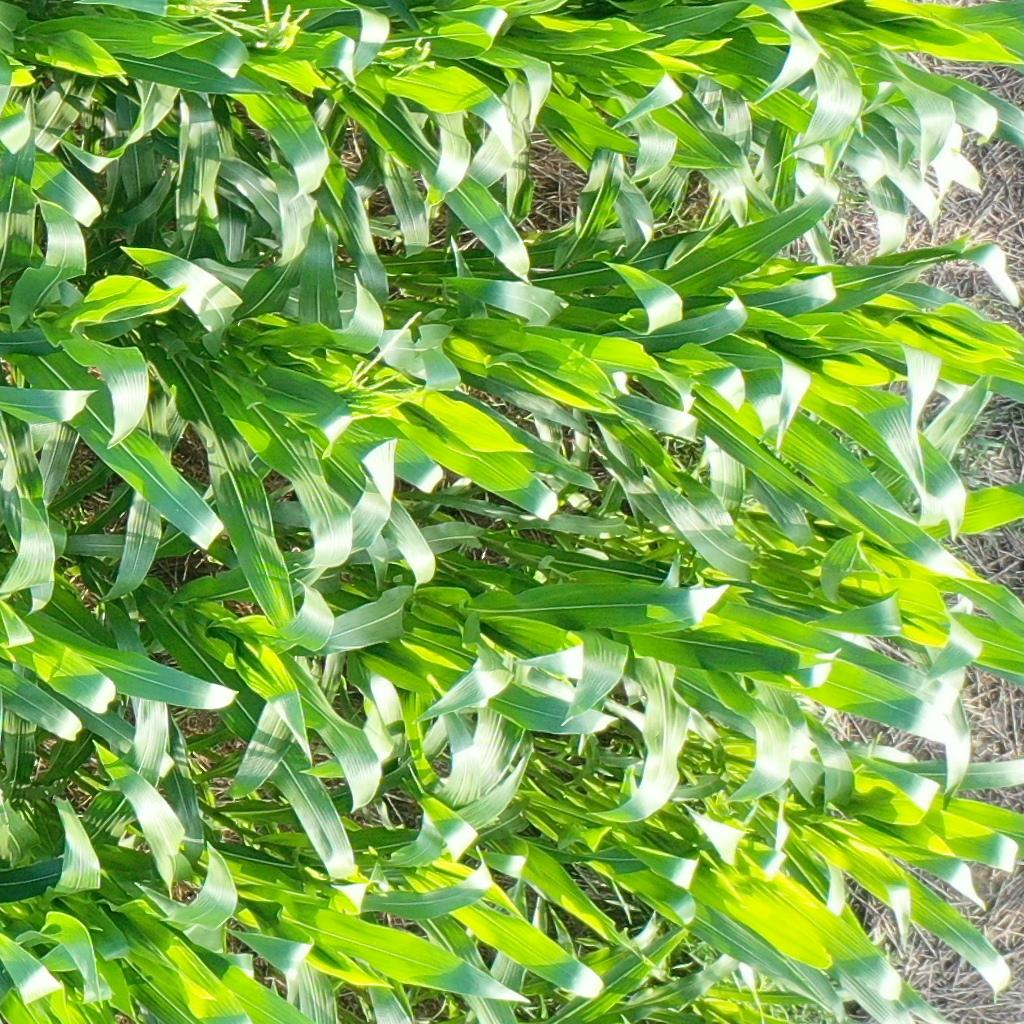Tassel: (332, 307, 426, 400), (159, 1, 311, 54), (378, 34, 439, 81)
